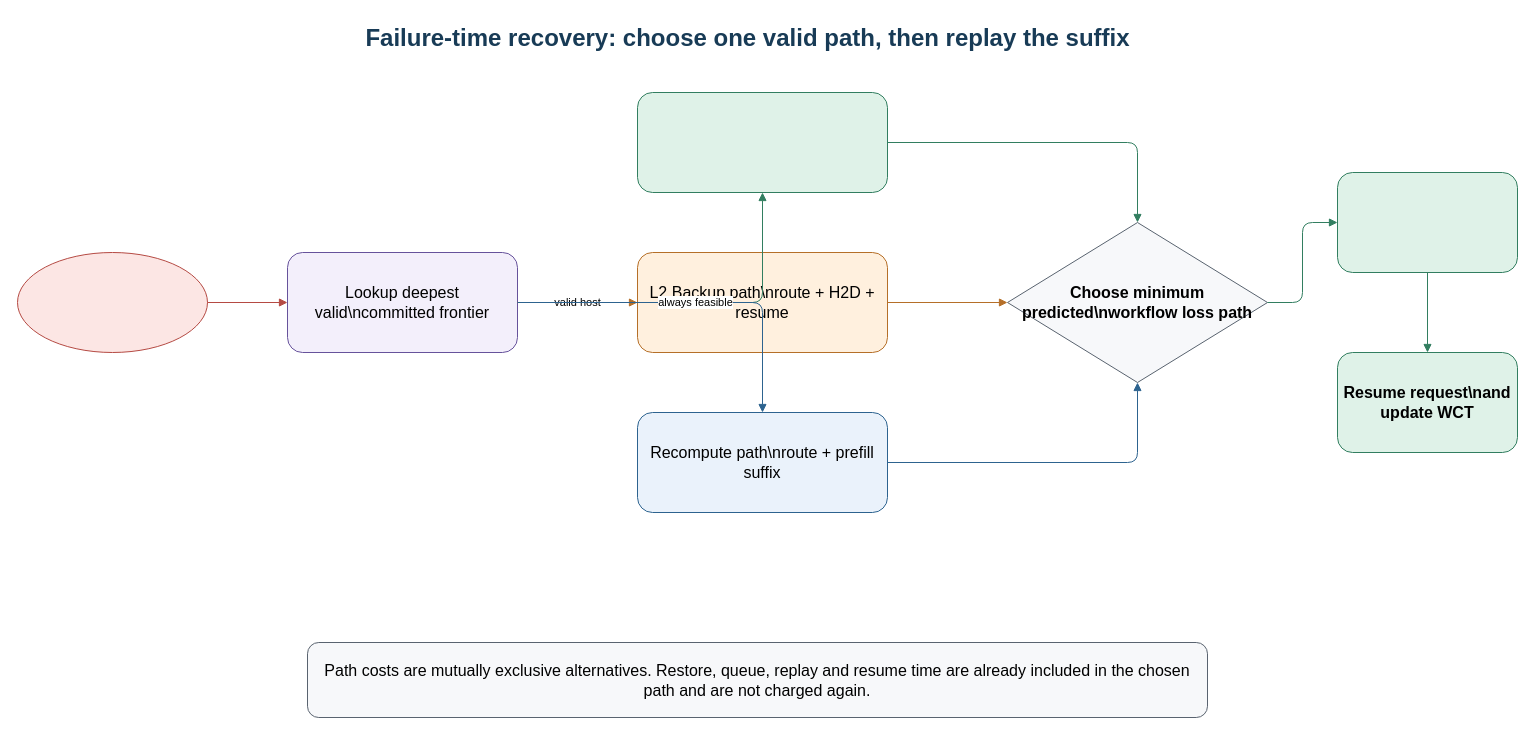
The diagram is 1535 pixels wide and 735 high, and some of its shapes have lost their labels. Each missing label, with the box of its shape:
L1 Backup path\nroute + queue + resume: (636, 92, 888, 192)
Owner rank fails: (16, 252, 208, 352)
Restore selected prefix\nReplay q+1:z if needed: (1336, 172, 1518, 272)
